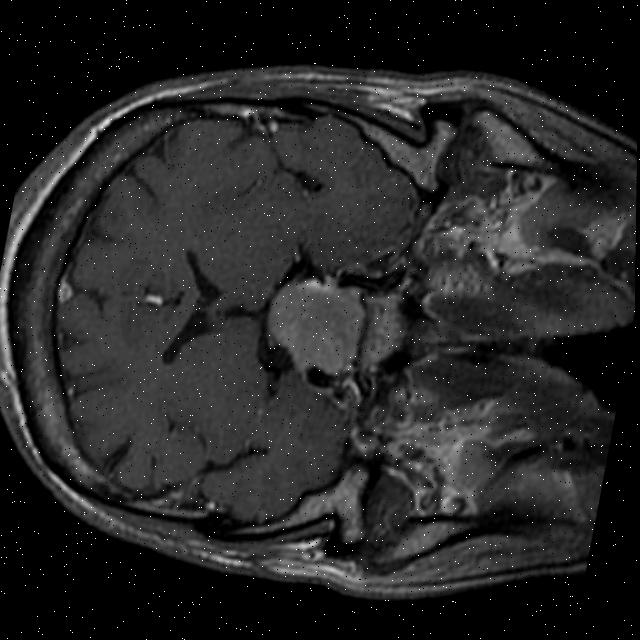Pituitary: (258, 266, 372, 384), (353, 289, 413, 372)
